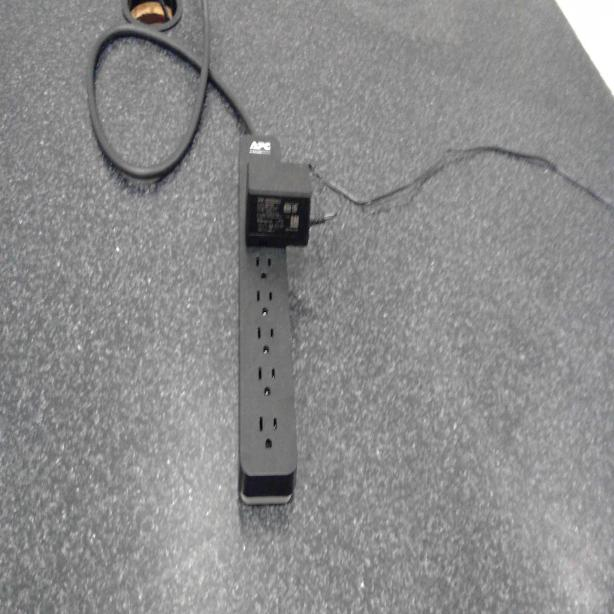typeb: (256, 412, 280, 455), (254, 364, 280, 401), (254, 320, 276, 356), (252, 250, 274, 282), (254, 288, 276, 318)
